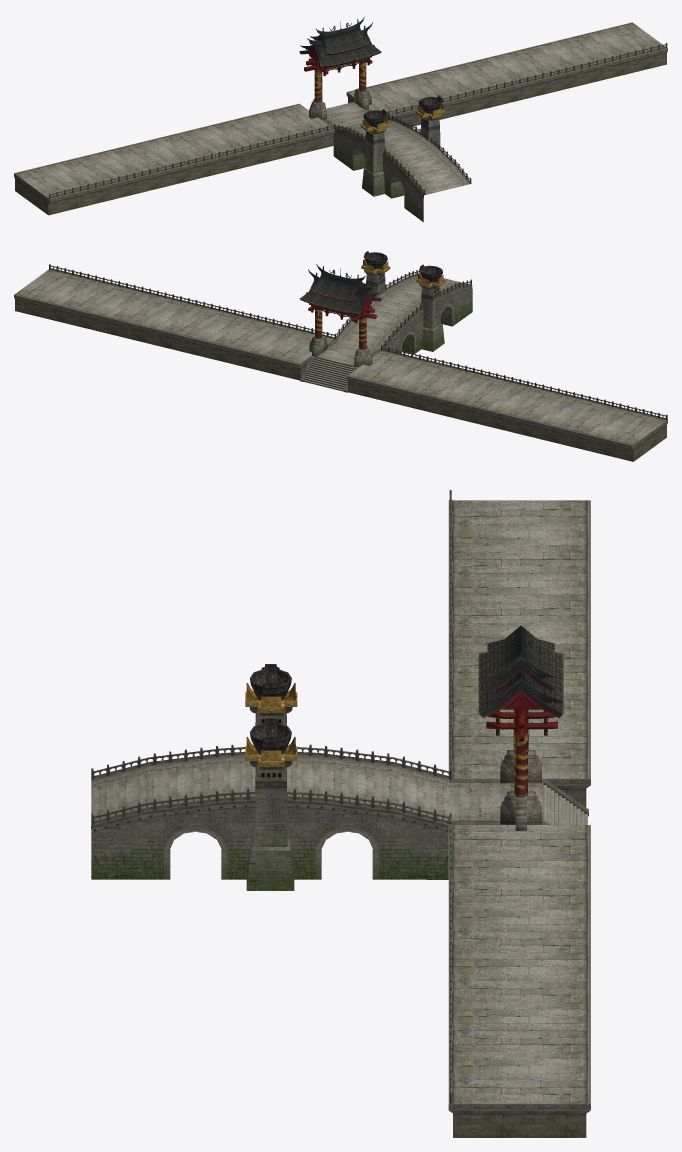
Rendered from c_jin_ent01.glb.
The picture shows the model from 3 angles, top to bottom: view 1: azimuth 30°, elevation 25°; view 2: azimuth 150°, elevation 25°; view 3: azimuth 270°, elevation 25°; orthographic projection. The views are drawn at different scales.
Visible parts, largest first — view 1: C_jin_Ent01_wall02, C_jin_Ent01_wall01, C_jin_Ent01_wall03, C_jin_Ent01_wall05, C_jin_Ent01_door01, C_jin_Ent01_door02, C_jin_Ent01_wall06, C_jin_Ent01_door03; view 2: C_jin_Ent01_wall02, C_jin_Ent01_wall01, C_jin_Ent01_wall03, C_jin_Ent01_wall05, C_jin_Ent01_door01, C_jin_Ent01_door02, C_jin_Ent01_wall06, C_jin_Ent01_door03; view 3: C_jin_Ent01_wall02, C_jin_Ent01_wall01, C_jin_Ent01_wall03, C_jin_Ent01_door02, C_jin_Ent01_door01, C_jin_Ent01_wall05, C_jin_Ent01_wall06, C_jin_Ent01_door03.
Boxes of the visible parts, x1=… form: C_jin_Ent01_wall02: x1=14, y1=22, x2=667, y2=215; C_jin_Ent01_wall01: x1=333, y1=95, x2=444, y2=221; C_jin_Ent01_wall03: x1=50, y1=44, x2=665, y2=194; C_jin_Ent01_wall05: x1=50, y1=44, x2=665, y2=198; C_jin_Ent01_door01: x1=314, y1=27, x2=381, y2=67; C_jin_Ent01_door02: x1=299, y1=36, x2=374, y2=119; C_jin_Ent01_wall06: x1=49, y1=43, x2=667, y2=198; C_jin_Ent01_door03: x1=300, y1=17, x2=372, y2=70; C_jin_Ent01_wall02: x1=14, y1=269, x2=667, y2=461; C_jin_Ent01_wall01: x1=361, y1=251, x2=472, y2=353; C_jin_Ent01_wall03: x1=50, y1=265, x2=665, y2=415; C_jin_Ent01_wall05: x1=50, y1=266, x2=665, y2=419; C_jin_Ent01_door01: x1=299, y1=274, x2=370, y2=315; C_jin_Ent01_door02: x1=306, y1=283, x2=381, y2=366; C_jin_Ent01_wall06: x1=49, y1=264, x2=667, y2=419; C_jin_Ent01_door03: x1=308, y1=264, x2=380, y2=318; C_jin_Ent01_wall02: x1=448, y1=500, x2=590, y2=1137; C_jin_Ent01_wall01: x1=91, y1=664, x2=448, y2=890; C_jin_Ent01_wall03: x1=91, y1=493, x2=451, y2=1092; C_jin_Ent01_door02: x1=479, y1=663, x2=563, y2=830; C_jin_Ent01_door01: x1=478, y1=625, x2=563, y2=713; C_jin_Ent01_wall05: x1=93, y1=748, x2=449, y2=824; C_jin_Ent01_wall06: x1=91, y1=490, x2=451, y2=1103; C_jin_Ent01_door03: x1=478, y1=653, x2=563, y2=703.
Size of the model in its own units: 196 by 35.51 by 68.42.
9 materials, 9 textured.
